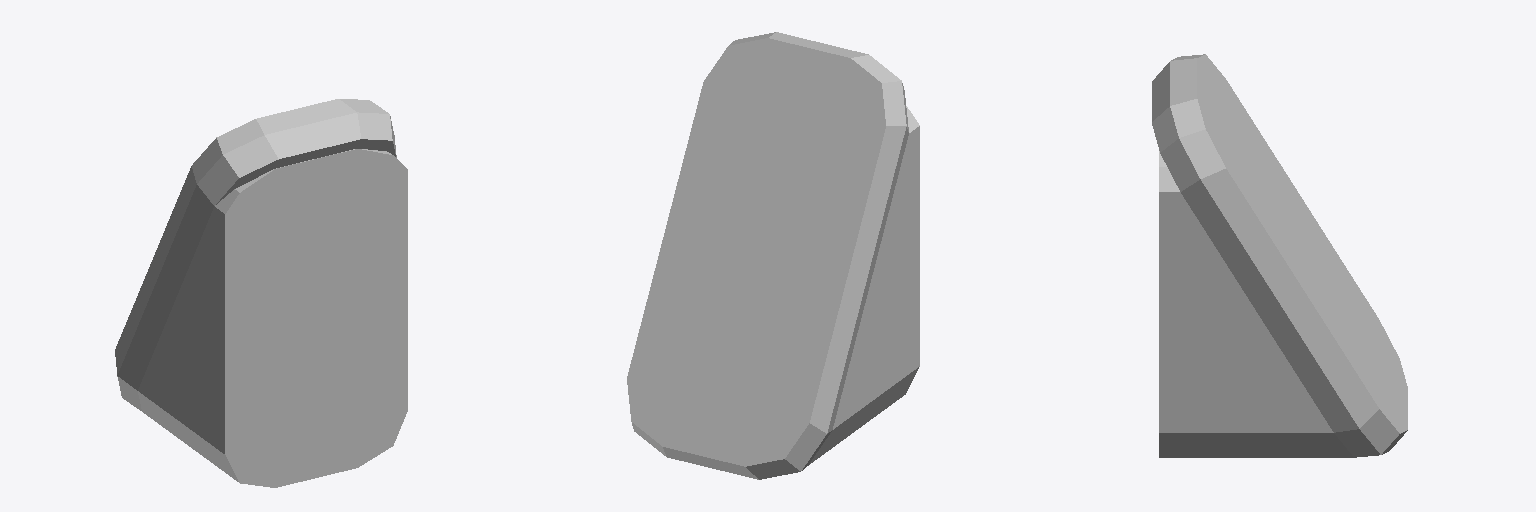
Rendered from block-snow-large-slope-steep-narrow.obj.
3 renders of one model, left to right at view 1: azimuth 30°, elevation 25°; view 2: azimuth 150°, elevation 25°; view 3: azimuth 270°, elevation 25°, orthographic.
Parts seen in each view (by area): view 1: block-snow-large-slope-steep-narrow; view 2: block-snow-large-slope-steep-narrow; view 3: block-snow-large-slope-steep-narrow.
Part boxes in pixels (x1,y1,x2,y2): block-snow-large-slope-steep-narrow: (115, 99, 407, 487); block-snow-large-slope-steep-narrow: (627, 32, 919, 479); block-snow-large-slope-steep-narrow: (1152, 54, 1407, 457).
Bounding box in the file's own units: 1.08 × 1.86 × 1.22.